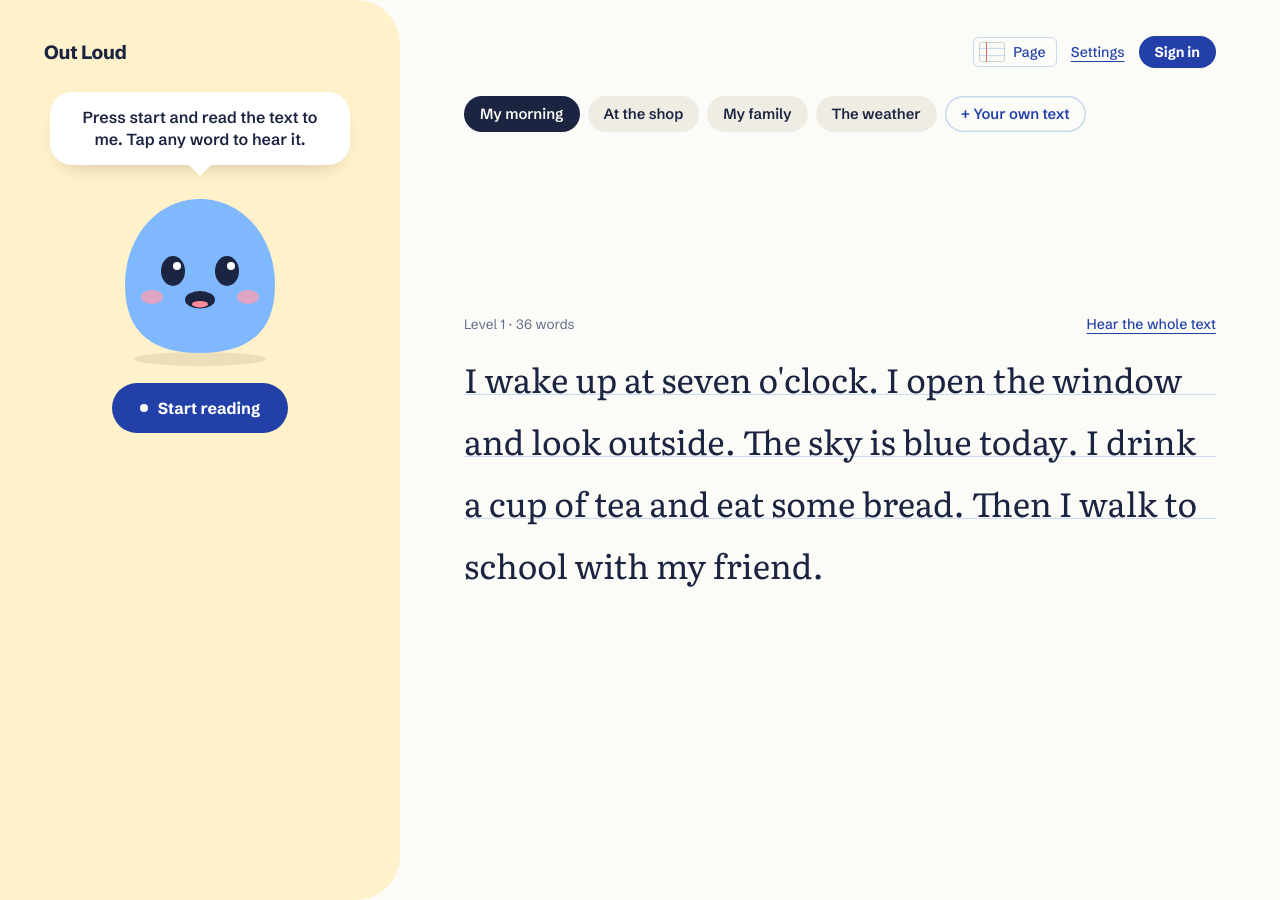
accounts and sync › shows texts that arrive from another device
The image size is (1280, 900).
Click the button "Sign in": click(1177, 52) [1139, 36, 1216, 68]
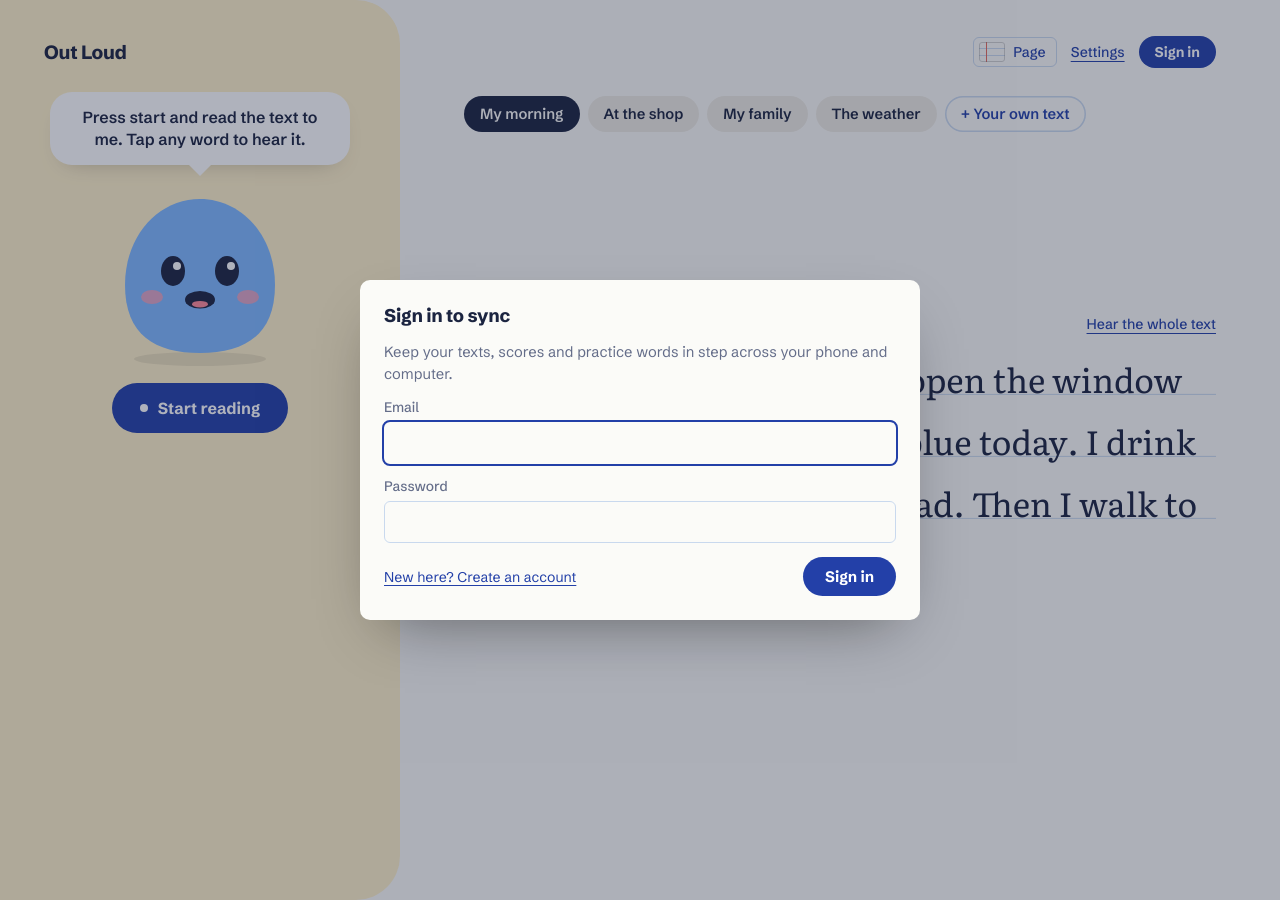
In the field labelled "Email": (640, 443) [384, 422, 896, 464], type "me@example.com"
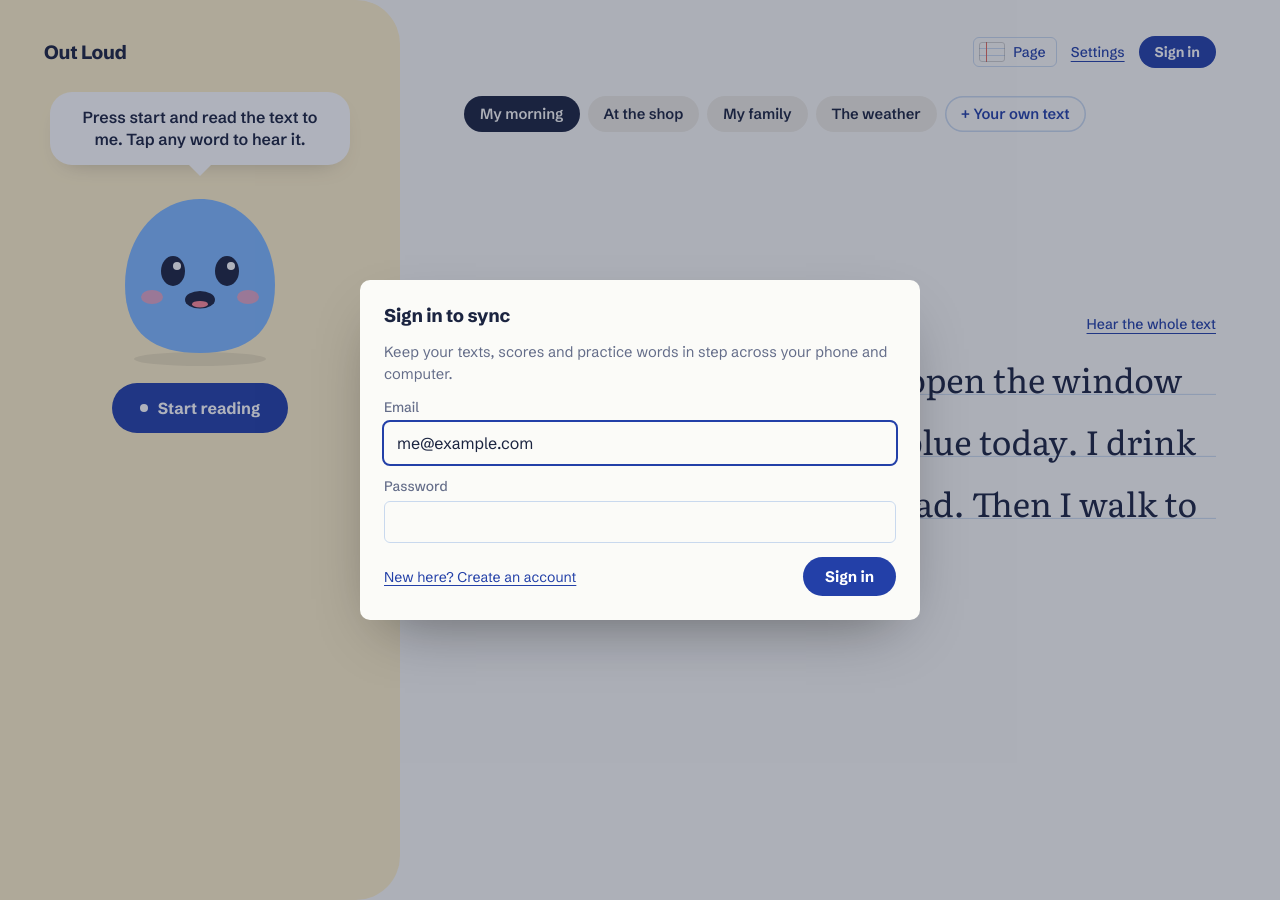
In the password field labelled "Password": (640, 522) [384, 501, 896, 543], type "right password"
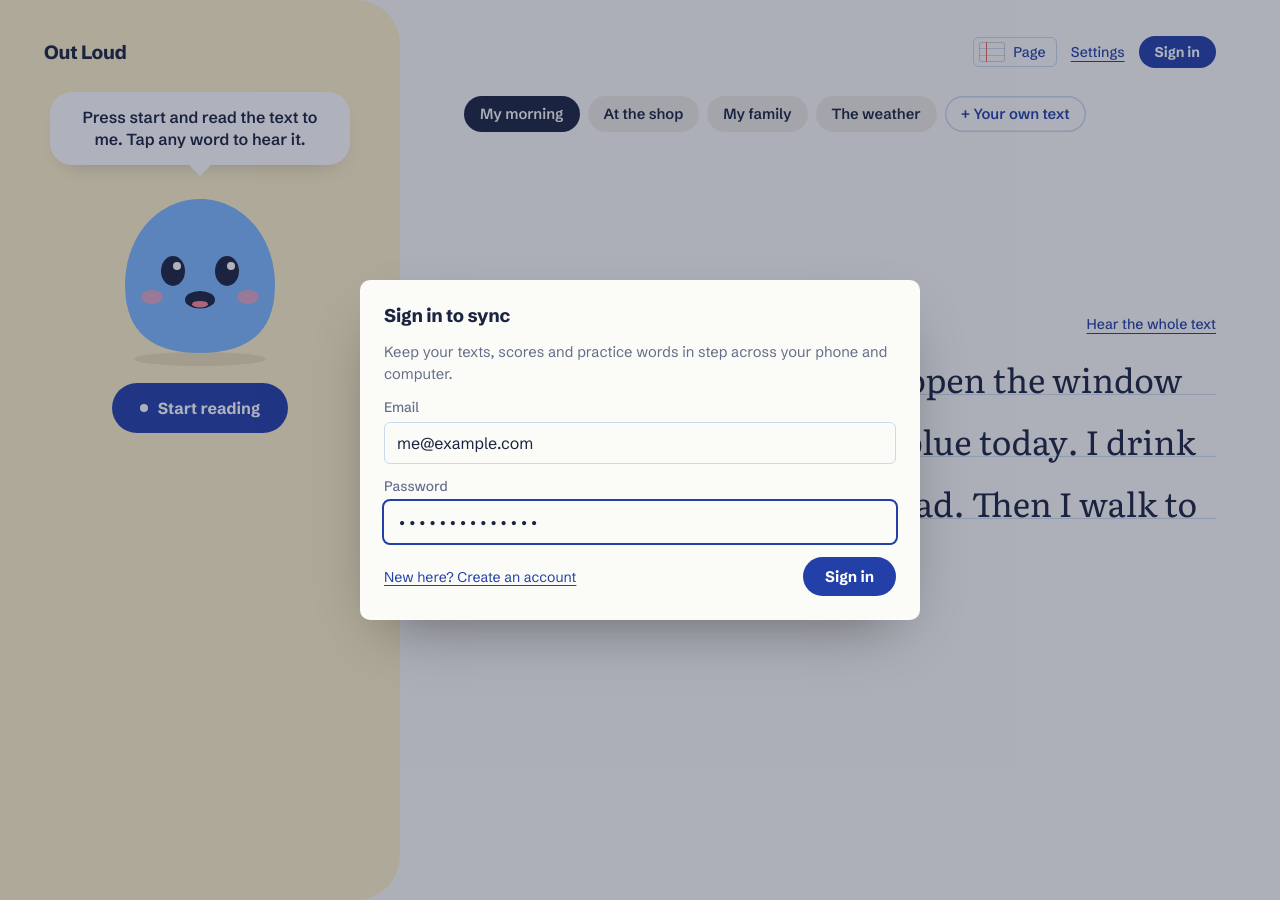
Click the button "Sign in": click(850, 577) [803, 557, 896, 596]
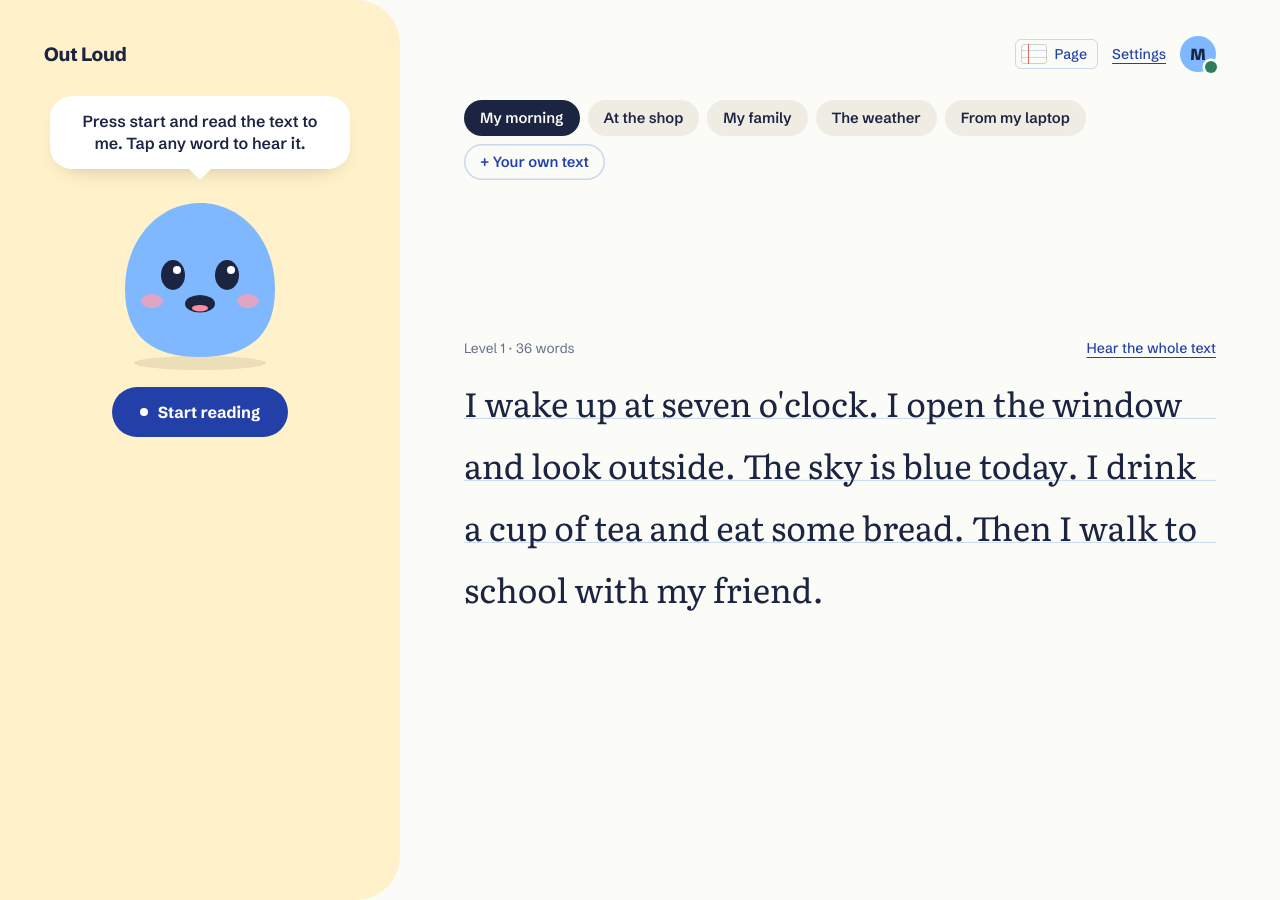
Check: the button "From my laptop" is shown, box [945, 100, 1086, 136]
